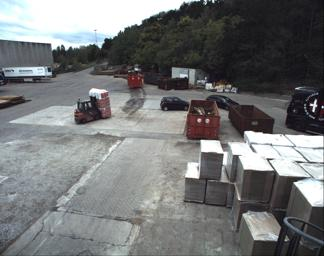rockwool_batts: (88, 88, 112, 116)
